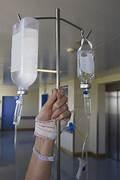Iv_Bottle: (11, 17, 38, 124), (11, 17, 38, 91), (77, 38, 93, 88)
